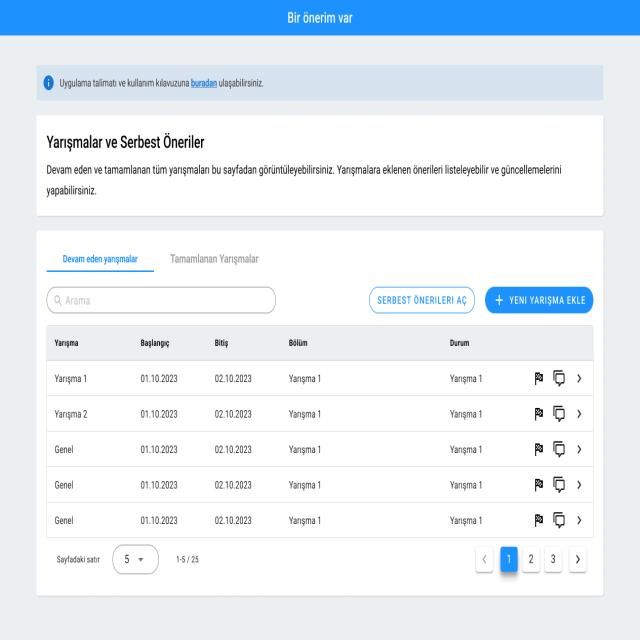QLabel: (44, 163, 562, 197), (44, 132, 206, 152), (168, 252, 262, 268), (59, 78, 189, 88), (284, 9, 354, 27), (60, 252, 140, 266), (508, 294, 587, 308), (375, 294, 467, 306), (219, 78, 264, 89), (190, 78, 218, 89)
VAppBar: (0, 0, 640, 36)
VBtn: (485, 286, 594, 314), (369, 286, 475, 314)
VCard: (36, 230, 605, 597), (36, 114, 604, 217), (36, 65, 604, 100)
VDataTable: (46, 325, 594, 578)
VIcon: (42, 73, 54, 92), (495, 294, 504, 307)
VTab: (46, 247, 157, 275), (162, 246, 269, 274)
VTabs: (42, 239, 592, 276)
VTextField: (46, 286, 276, 315)
